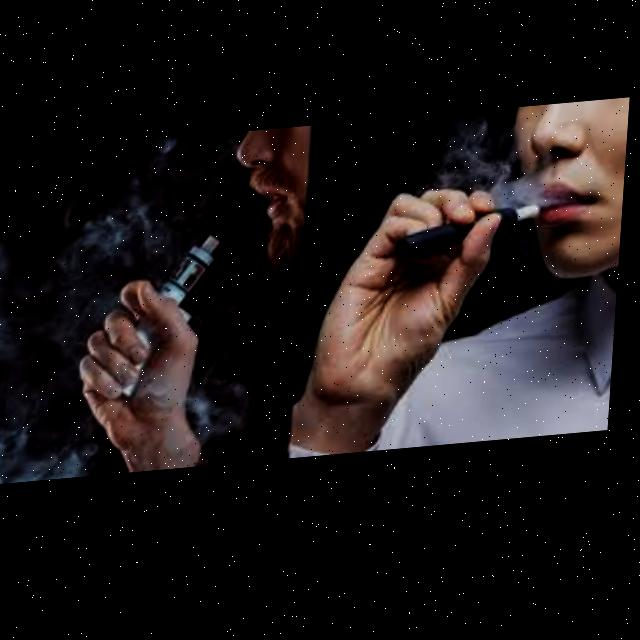vape: (113, 234, 224, 406), (402, 210, 550, 259)
